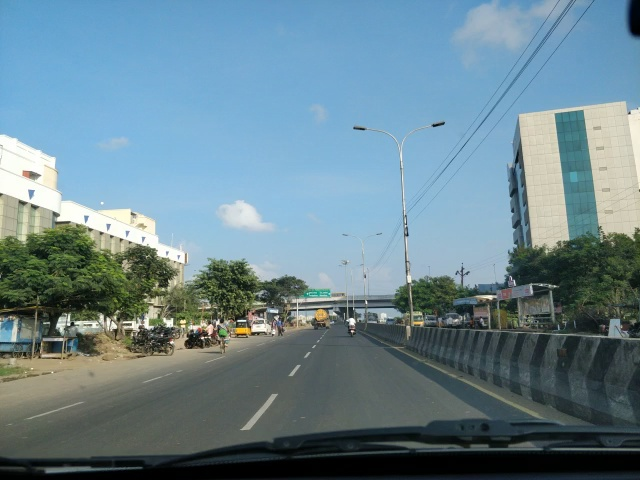auto: (235, 317, 251, 340)
bus: (443, 310, 465, 332), (423, 311, 439, 330)
car: (249, 316, 276, 340)
motorbike: (143, 334, 177, 358), (183, 326, 208, 355), (215, 317, 232, 357), (344, 314, 362, 341)
person: (66, 321, 86, 353), (270, 315, 288, 341)
truck: (400, 307, 430, 333), (311, 308, 333, 334)
